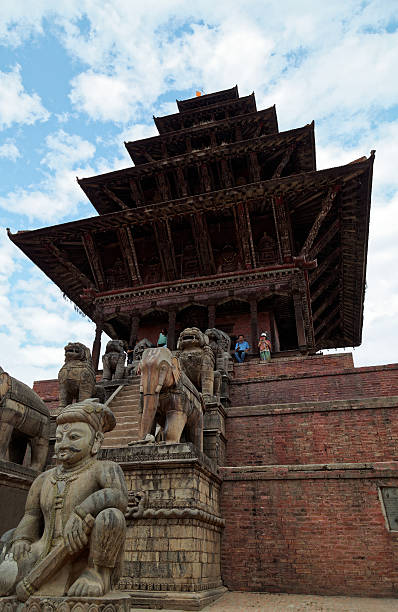nyathapola: (35, 37, 388, 611)
